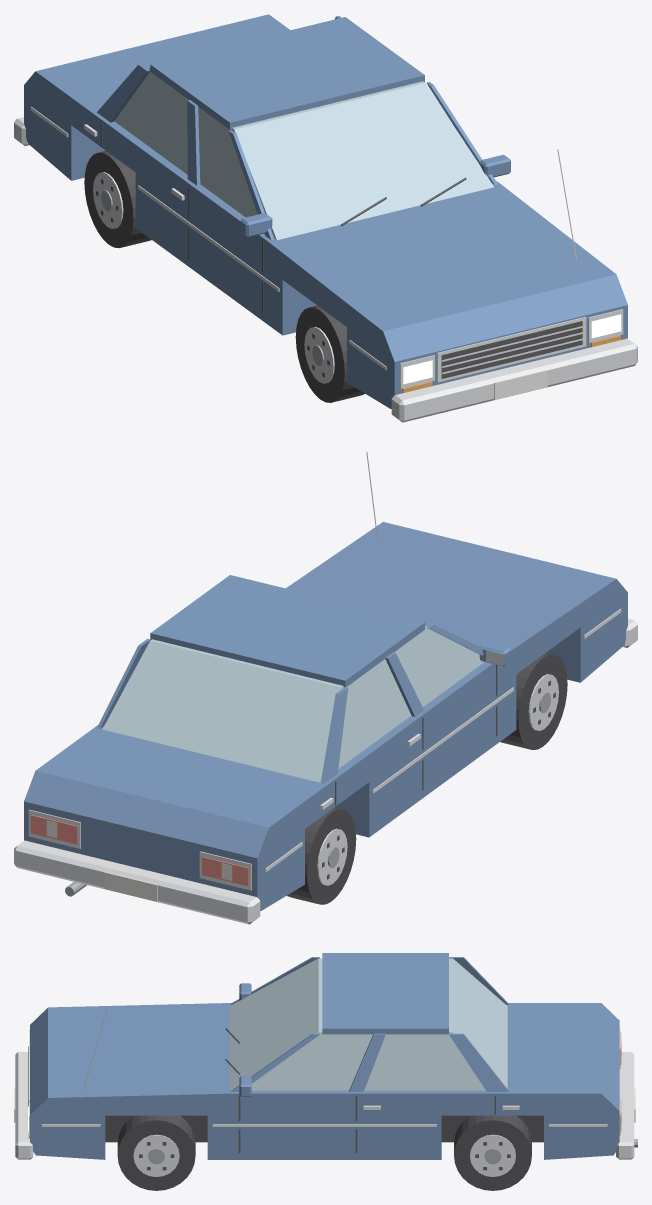
Rendered from car_sedan_b.glb.
3 renders of one model, top to bottom at view 1: azimuth 30°, elevation 25°; view 2: azimuth 150°, elevation 25°; view 3: azimuth 270°, elevation 25°, orthographic. The views are drawn at different scales.
Visible parts, largest first — view 1: car_sedan_b_car_b, car_sedan_b_glass, car_sedan_b_chrome, car_sedan_b_rubber, car_sedan_b_dark, car_sedan_b_lamp_glass, car_sedan_b_paint_w; view 2: car_sedan_b_car_b, car_sedan_b_glass, car_sedan_b_chrome, car_sedan_b_rubber, car_sedan_b_neon_r, car_sedan_b_paint_w; view 3: car_sedan_b_car_b, car_sedan_b_glass, car_sedan_b_rubber, car_sedan_b_chrome, car_sedan_b_dark, car_sedan_b_steel.
Boxes of the visible parts, left/top/right/bottom form: car_sedan_b_car_b: left=24, top=14, right=627, bottom=408; car_sedan_b_glass: left=114, top=68, right=493, bottom=240; car_sedan_b_chrome: left=14, top=106, right=637, bottom=422; car_sedan_b_rubber: left=84, top=150, right=364, bottom=402; car_sedan_b_dark: left=96, top=122, right=582, bottom=378; car_sedan_b_lamp_glass: left=403, top=314, right=621, bottom=384; car_sedan_b_paint_w: left=494, top=370, right=547, bottom=399; car_sedan_b_car_b: left=24, top=522, right=627, bottom=910; car_sedan_b_glass: left=102, top=626, right=483, bottom=782; car_sedan_b_chrome: left=14, top=451, right=637, bottom=924; car_sedan_b_rubber: left=287, top=652, right=567, bottom=904; car_sedan_b_neon_r: left=30, top=815, right=248, bottom=886; car_sedan_b_paint_w: left=46, top=820, right=232, bottom=901; car_sedan_b_car_b: left=30, top=953, right=619, bottom=1159; car_sedan_b_glass: left=229, top=958, right=507, bottom=1090; car_sedan_b_rubber: left=105, top=1115, right=543, bottom=1190; car_sedan_b_chrome: left=15, top=1008, right=634, bottom=1176; car_sedan_b_dark: left=28, top=1028, right=510, bottom=1170; car_sedan_b_steel: left=148, top=1139, right=637, bottom=1164.
Size of the model in its own units: 2 by 1.6 by 5.12.
